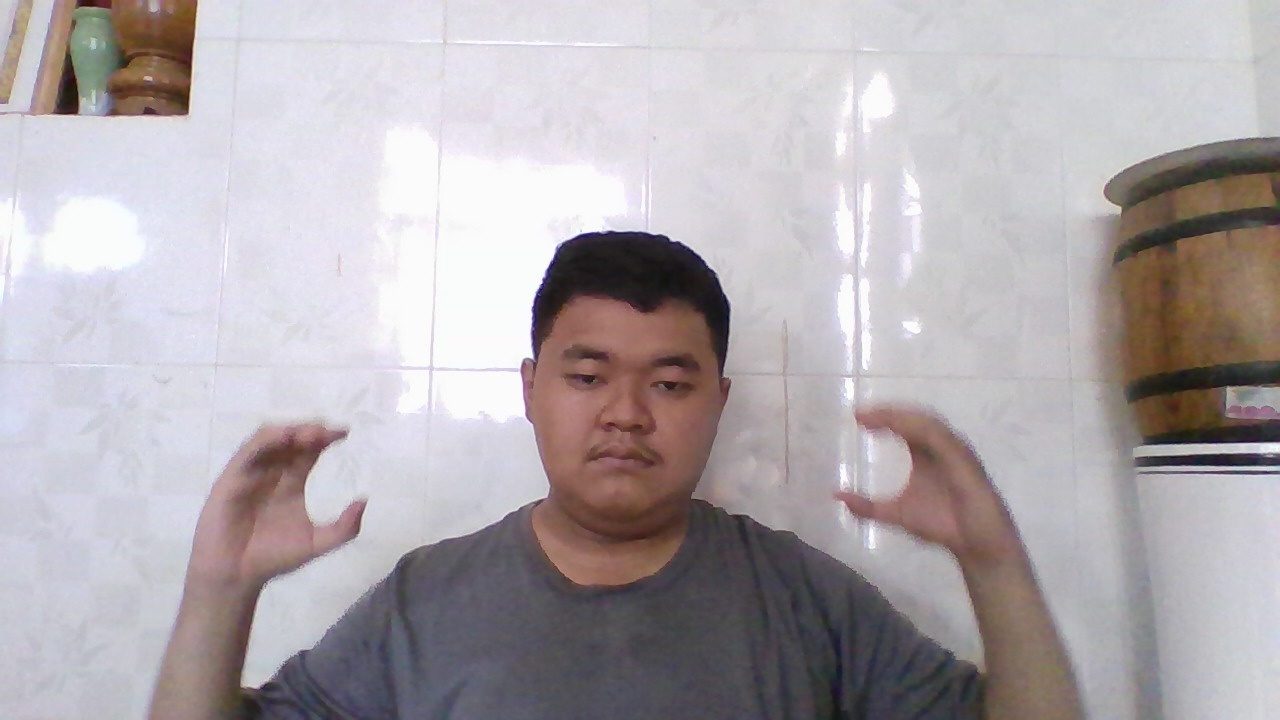C: (218, 414, 374, 594), (827, 395, 990, 567)
